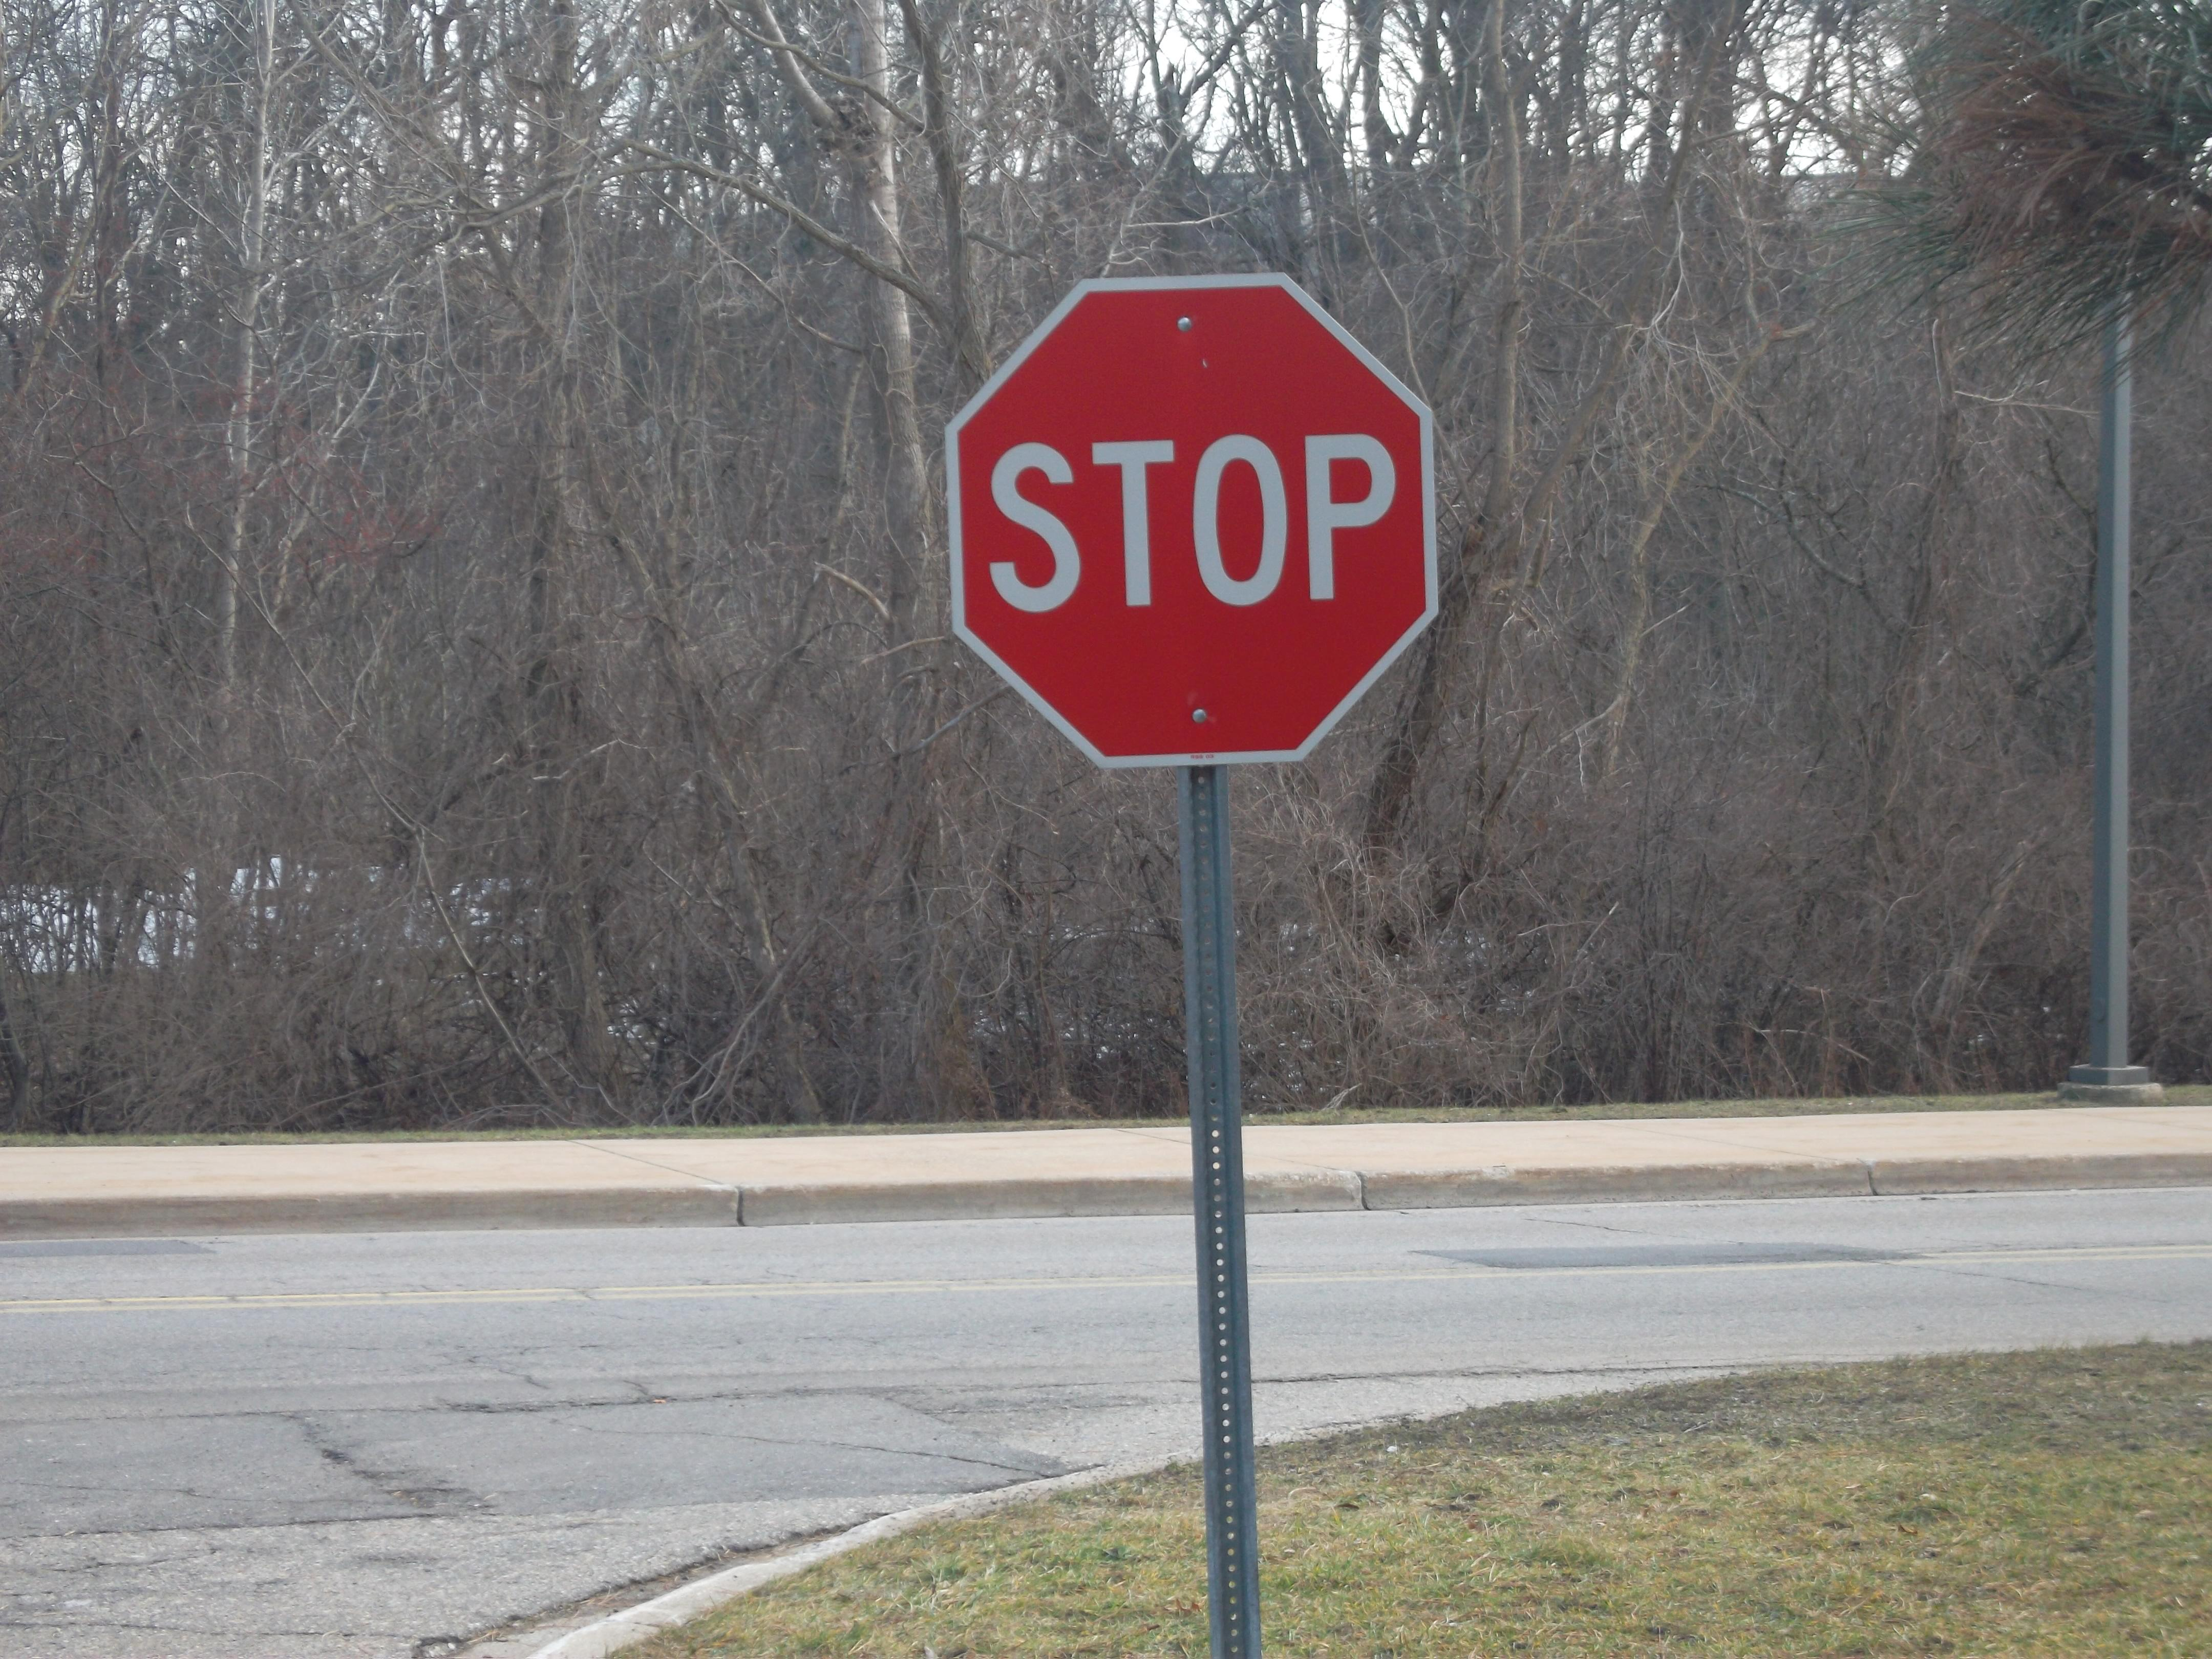stop: (927, 256, 1460, 782)
